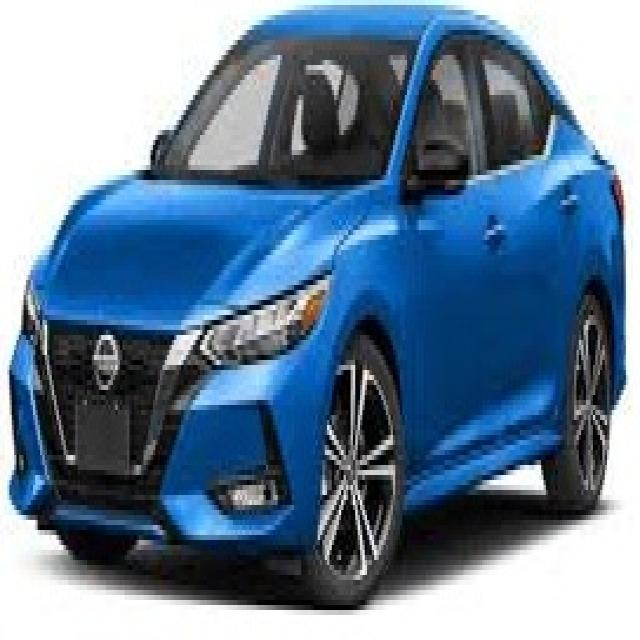blue: (13, 7, 640, 640)
